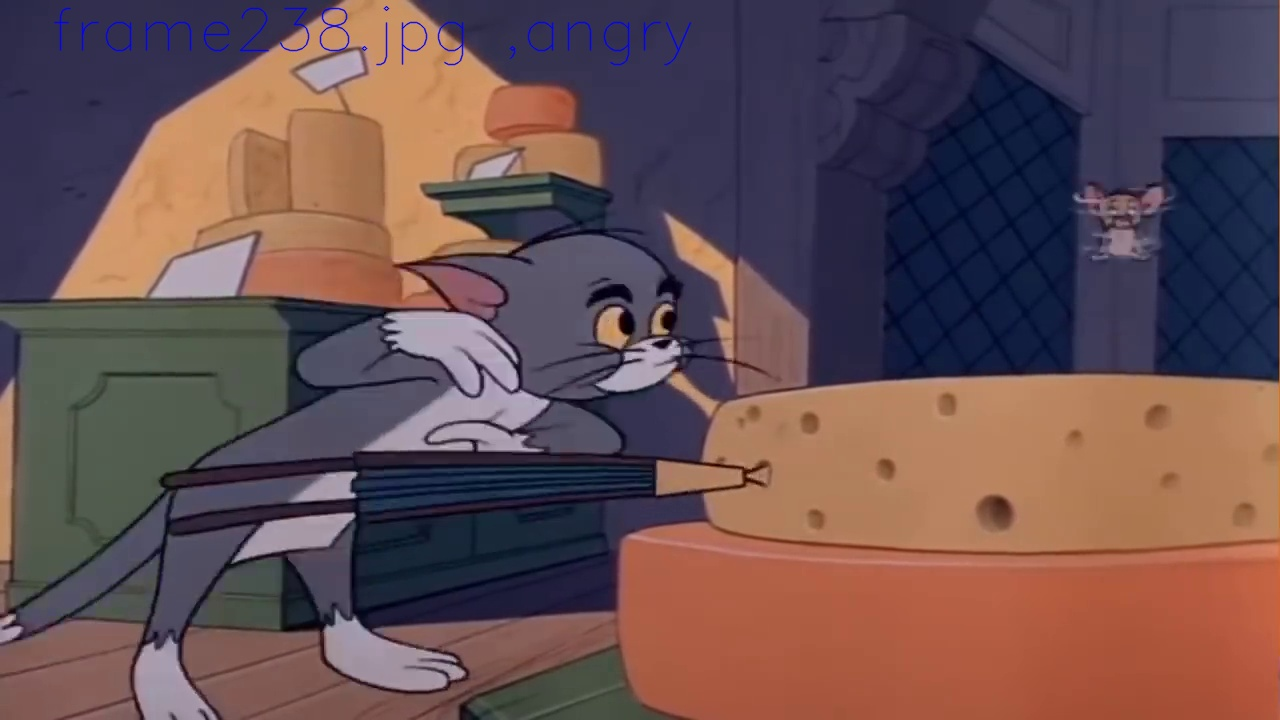surprised: (587, 274, 694, 391)
